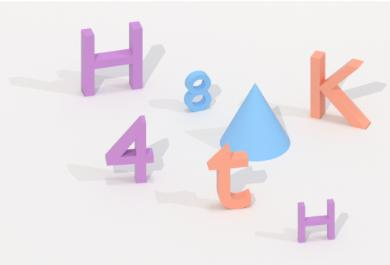0-TamGiac: (218, 79, 294, 163)
4: (100, 110, 160, 188)
8: (182, 66, 215, 117)
H: (75, 17, 147, 100), (292, 194, 344, 247)
K: (306, 44, 374, 136)
t: (203, 141, 257, 213)
